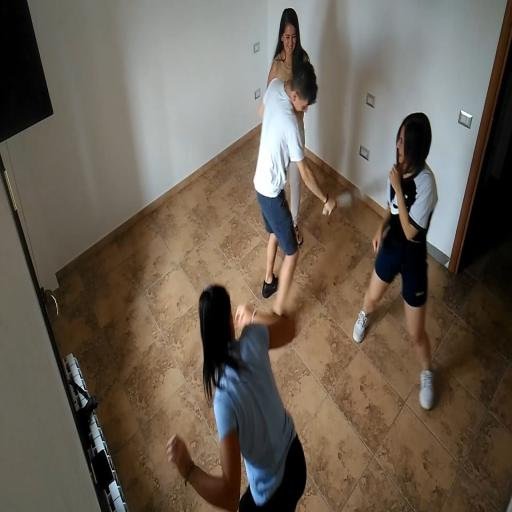violencia: (248, 41, 454, 420)
